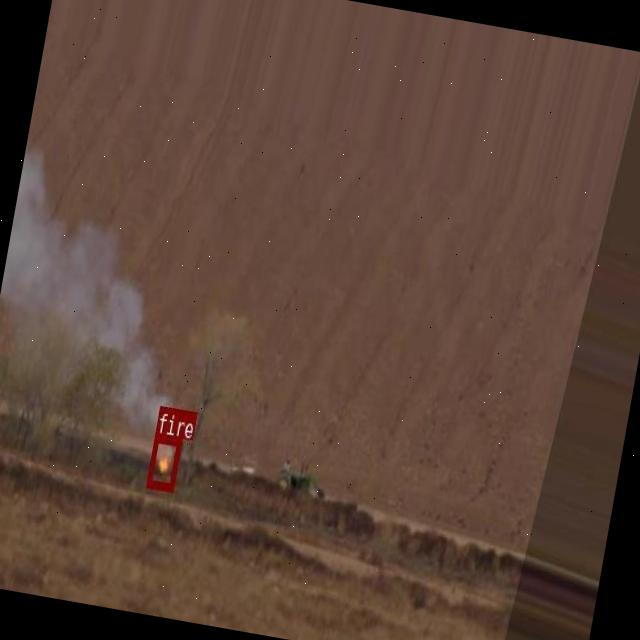fire: (146, 433, 180, 491)
